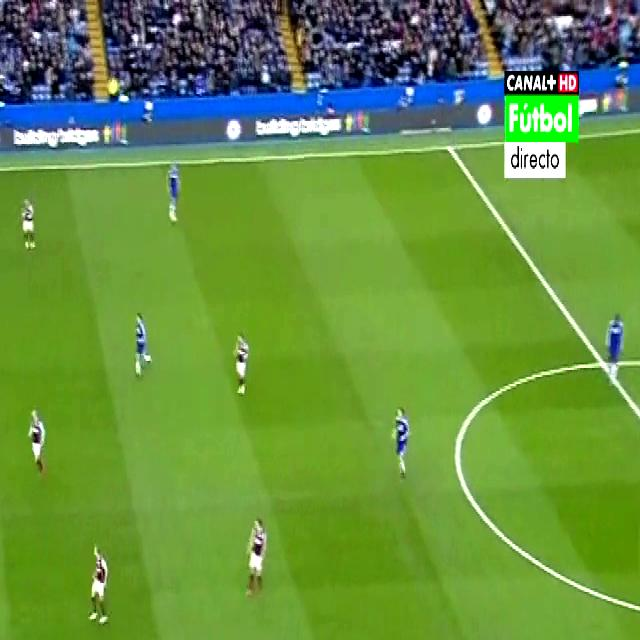referee: (263, 631, 301, 640)
soccer-player: (593, 298, 629, 385), (382, 389, 412, 488), (85, 539, 114, 636), (245, 502, 272, 600), (160, 150, 186, 235), (128, 306, 156, 383), (24, 409, 50, 486), (16, 190, 44, 256), (230, 334, 254, 399)
